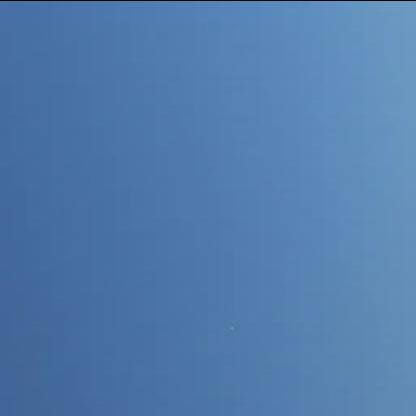plane: (226, 323, 240, 333)
